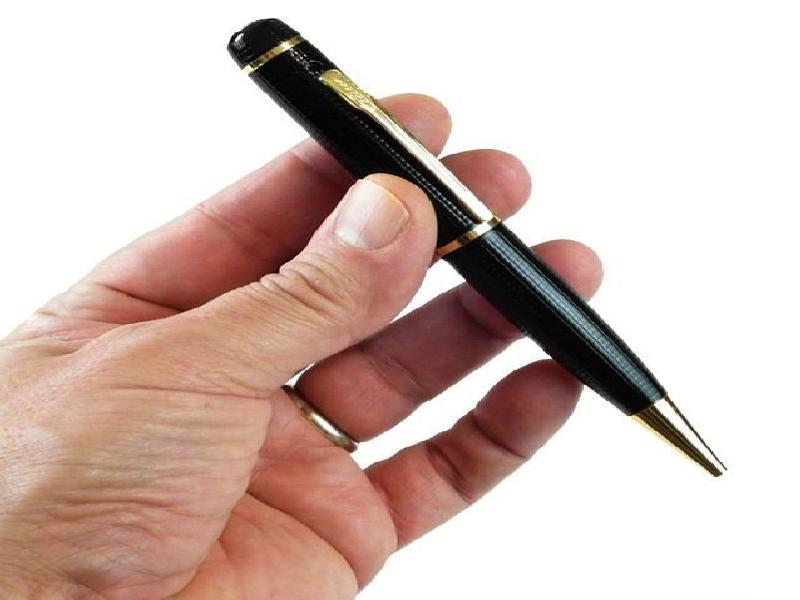pen: (225, 11, 729, 481)
